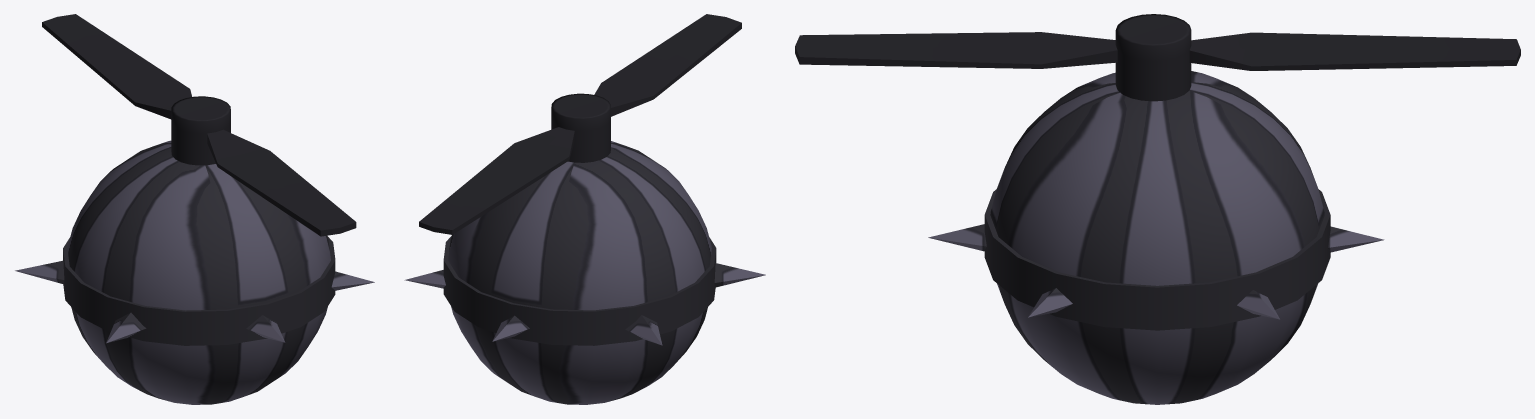
The model's file is Helipod.fbx.
The picture shows the model from 3 angles, left to right: view 1: azimuth 30°, elevation 25°; view 2: azimuth 150°, elevation 25°; view 3: azimuth 270°, elevation 25°; orthographic projection. The views are drawn at different scales.
Visible parts, largest first — view 1: sphere, fan2, spike; view 2: sphere, fan2, spike; view 3: sphere, fan2, spike.
Part boxes in pixels (bbox=[...]): sphere: bbox=[67, 140, 330, 404]; fan2: bbox=[42, 14, 356, 236]; spike: bbox=[15, 236, 374, 345]; sphere: bbox=[448, 141, 711, 404]; fan2: bbox=[419, 14, 741, 234]; spike: bbox=[404, 236, 765, 345]; sphere: bbox=[990, 71, 1324, 404]; fan2: bbox=[795, 14, 1520, 101]; spike: bbox=[928, 189, 1384, 330].
Size of the model in its own units: 2.91 by 2.96 by 5.42.
3 materials, 1 textured.
